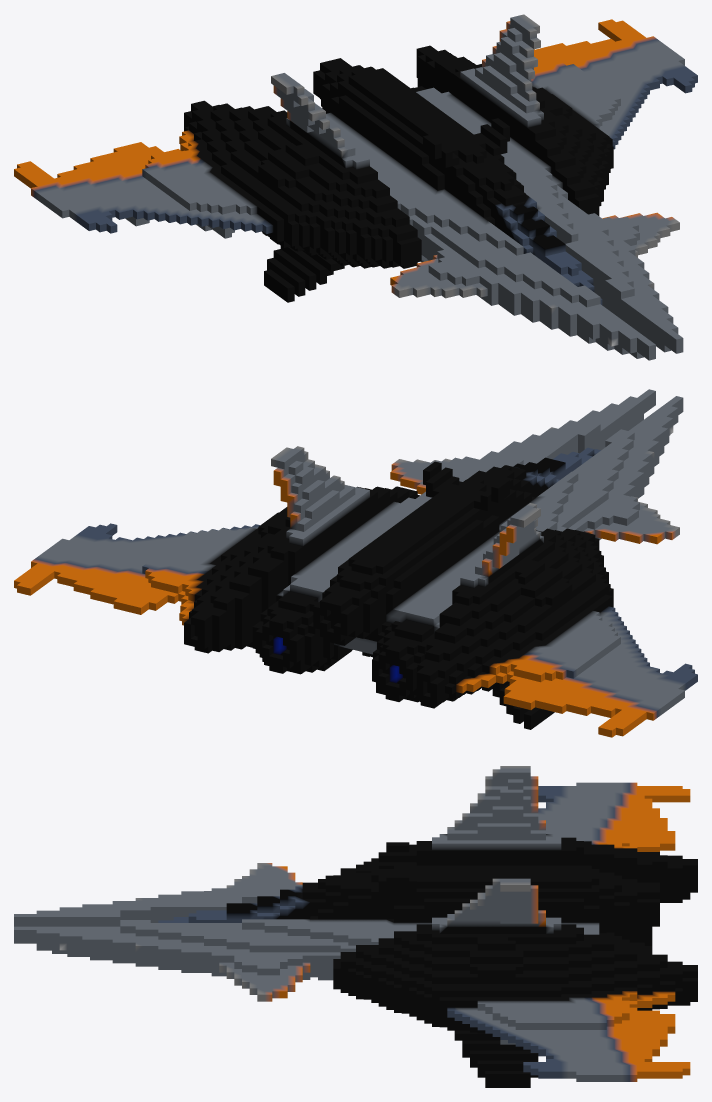
Rendered from spaceship2.obj.
3 views of the same model, one above another, from view 1: azimuth 30°, elevation 25°; view 2: azimuth 150°, elevation 25°; view 3: azimuth 270°, elevation 25° (orthographic). The views are drawn at different scales.
Size of the model in its own units: 9.1 by 2.9 by 9.
